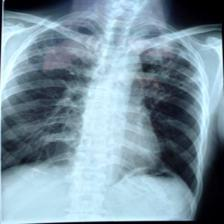tuberculosis: (0, 14, 201, 200)
